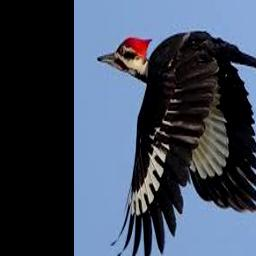Woodpecker: (98, 29, 256, 256)
